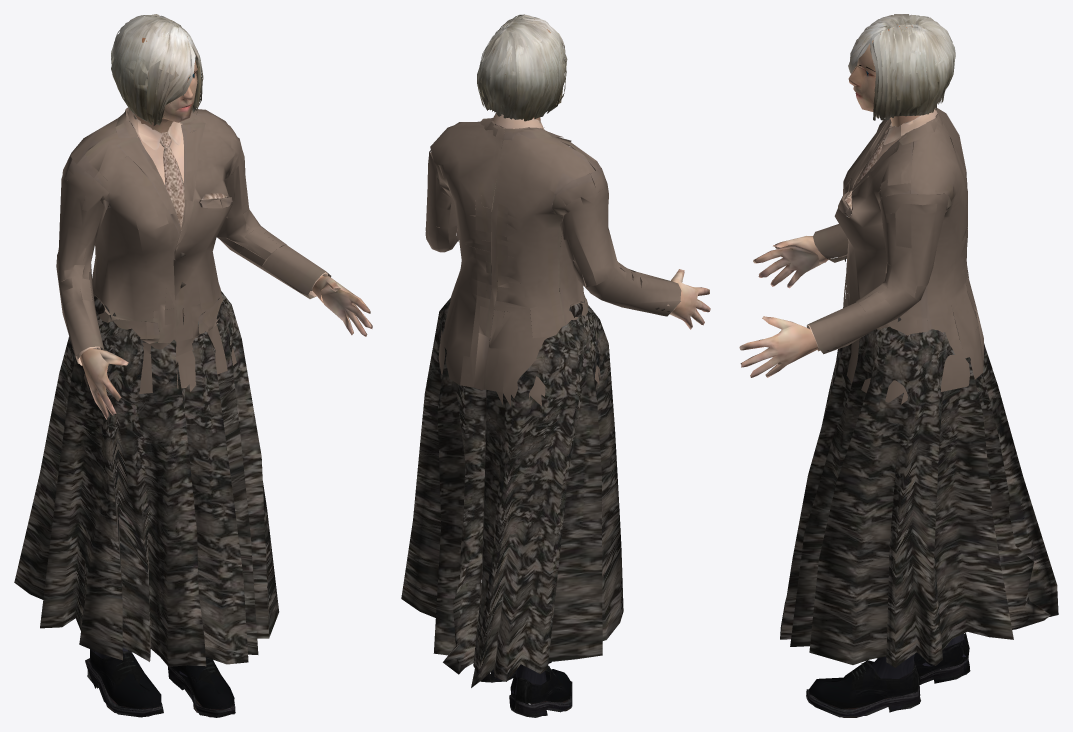
3 views of the same model, side by side, from view 1: azimuth 30°, elevation 25°; view 2: azimuth 150°, elevation 25°; view 3: azimuth 270°, elevation 25° (orthographic).
Parts seen in each view (by area): view 1: Modell; view 2: Modell; view 3: Modell.
Boxes of the visible parts, bbox=[...] form: Modell: bbox=[14, 14, 372, 717]; Modell: bbox=[401, 14, 710, 717]; Modell: bbox=[739, 14, 1058, 717].
Size of the model in its own units: 0.6597 by 1.68 by 0.7107.
7 materials, 7 textured.
